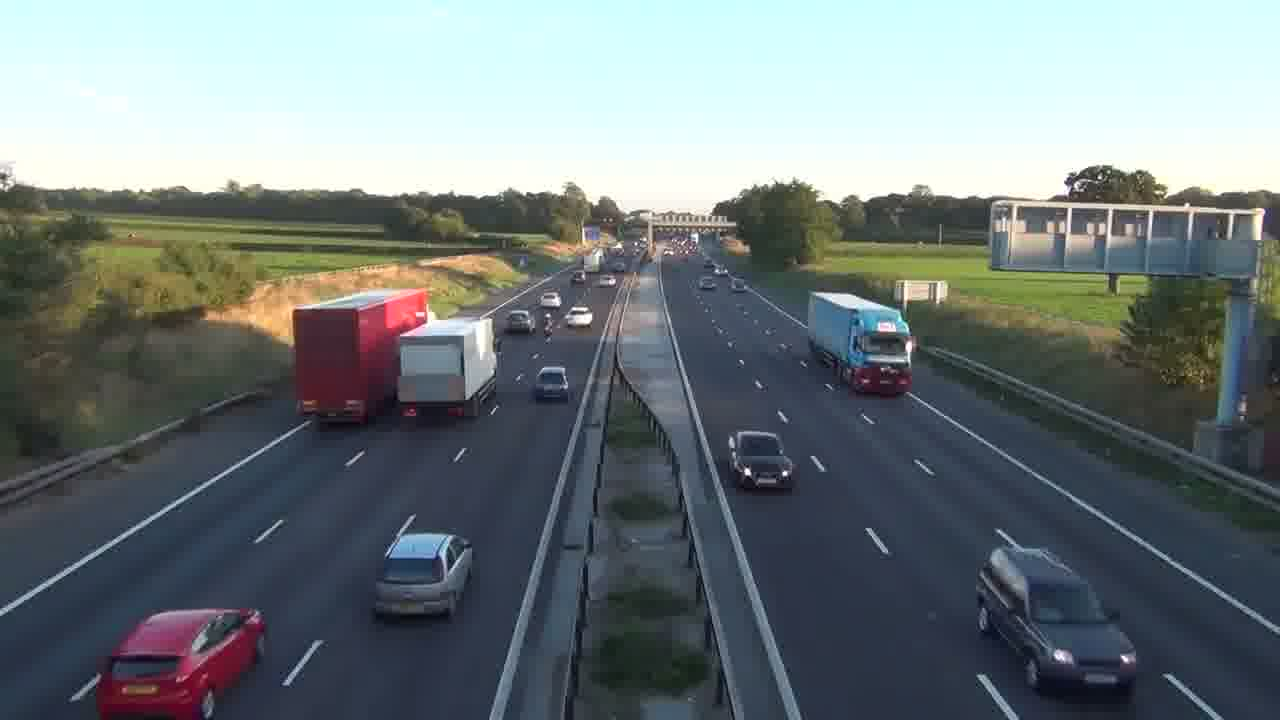car: (95, 607, 268, 719), (373, 516, 476, 620), (727, 429, 798, 492), (532, 366, 569, 403), (506, 310, 535, 334), (565, 305, 593, 327)
truck: (974, 541, 1138, 697), (95, 607, 268, 719), (292, 287, 429, 427), (807, 291, 914, 396), (396, 318, 499, 420)
